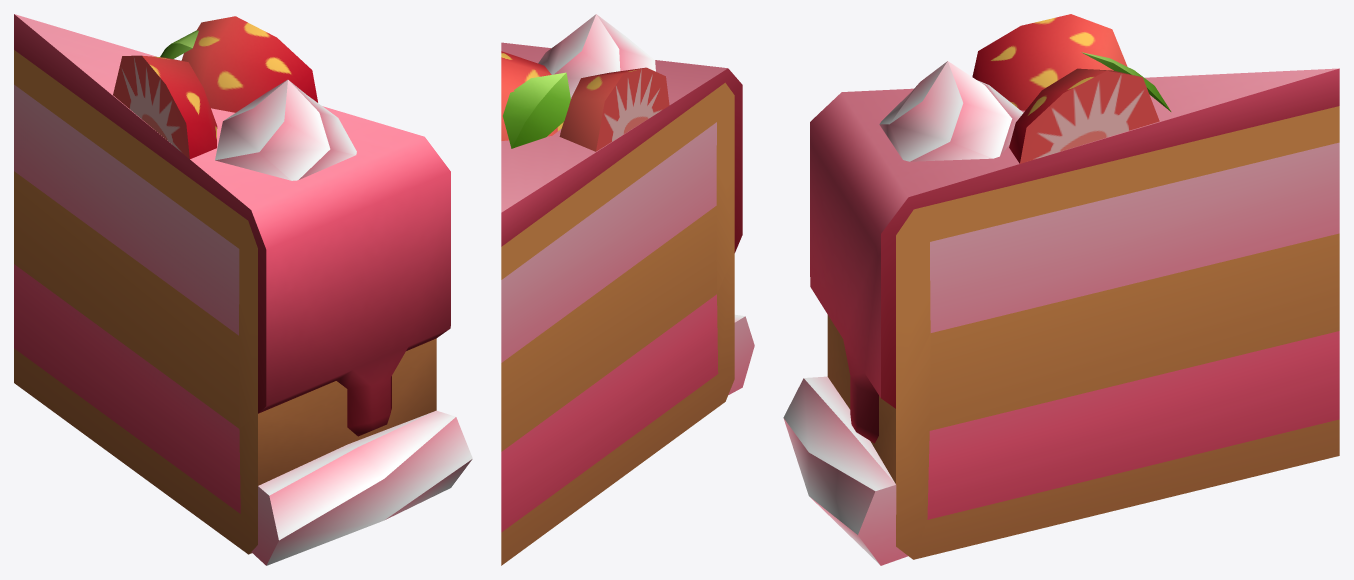
File: m_ValentinesCake01_Slice03.fbx
3 views of the same model, side by side, from view 1: azimuth 30°, elevation 25°; view 2: azimuth 150°, elevation 25°; view 3: azimuth 270°, elevation 25° (orthographic). The views are drawn at different scales.
Parts seen in each view (by area): view 1: m_ValentinesCake01_Slice03; view 2: m_ValentinesCake01_Slice03; view 3: m_ValentinesCake01_Slice03.
Boxes of the visible parts, box(x1,y1,x2,y2) form: m_ValentinesCake01_Slice03: box(14, 14, 472, 565); m_ValentinesCake01_Slice03: box(501, 14, 754, 565); m_ValentinesCake01_Slice03: box(783, 14, 1339, 565).
Bounding box in the file's own units: 7.6 × 13.37 × 15.21.
